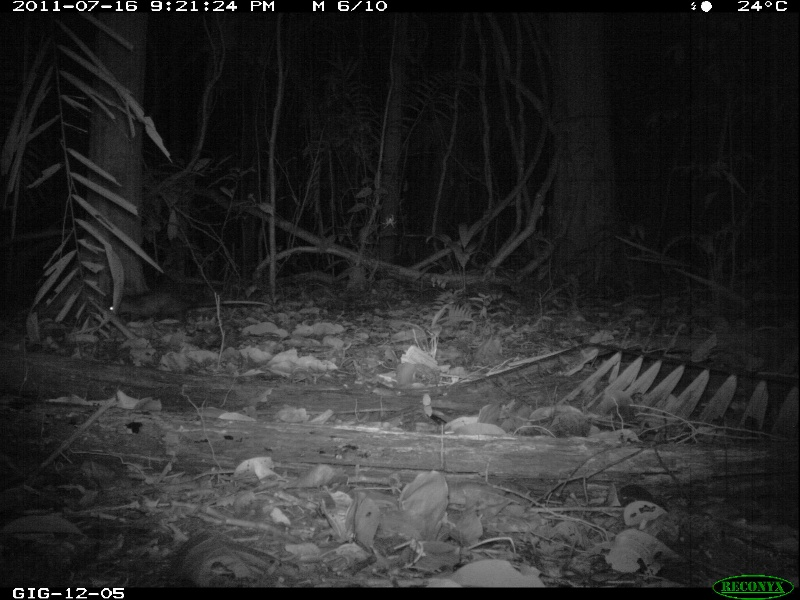opossum: (104, 278, 273, 322)
